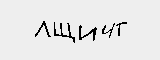И: (76, 23, 98, 43)
Л: (35, 19, 49, 39)
Т: (113, 17, 131, 40)
Ч: (101, 21, 115, 39)
Щ: (52, 20, 76, 41)
